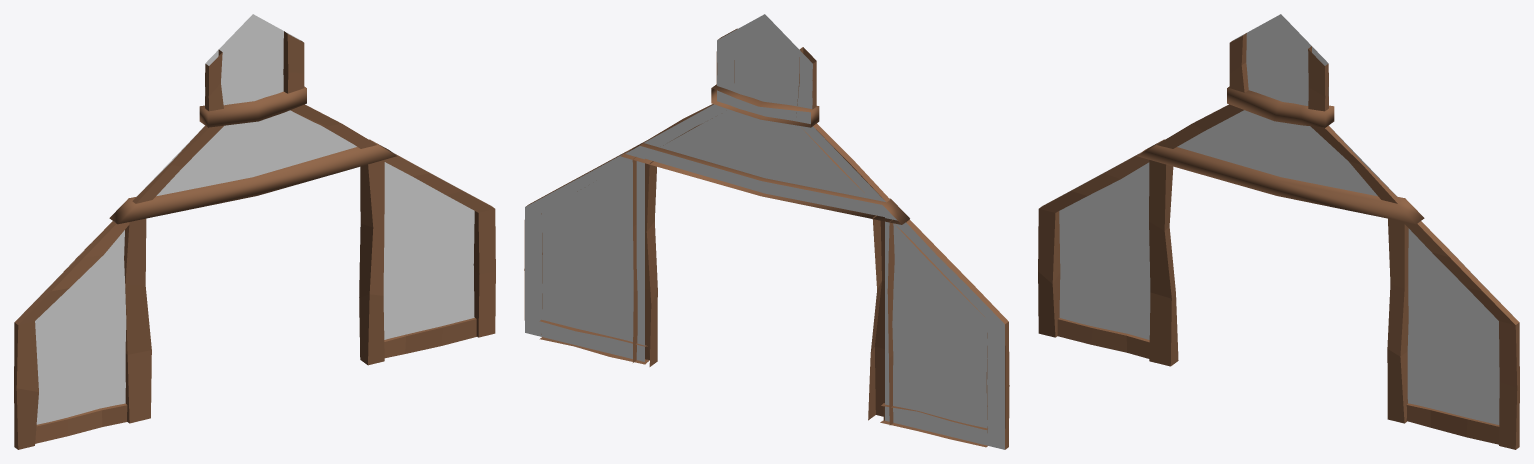
The model's file is WarehouseFront 1.fbx.
The picture shows the model from 3 angles, left to right: view 1: azimuth 30°, elevation 25°; view 2: azimuth 150°, elevation 25°; view 3: azimuth 330°, elevation 25°; orthographic projection.
Parts seen in each view (by area): view 1: WarehouseFront; view 2: WarehouseFront; view 3: WarehouseFront.
Boxes of the visible parts, left/top/right/bottom form: WarehouseFront: left=14, top=14, right=495, bottom=449; WarehouseFront: left=524, top=14, right=1009, bottom=449; WarehouseFront: left=1038, top=14, right=1519, bottom=449.
Bounding box in the file's own units: 804 × 603 × 36.52.
